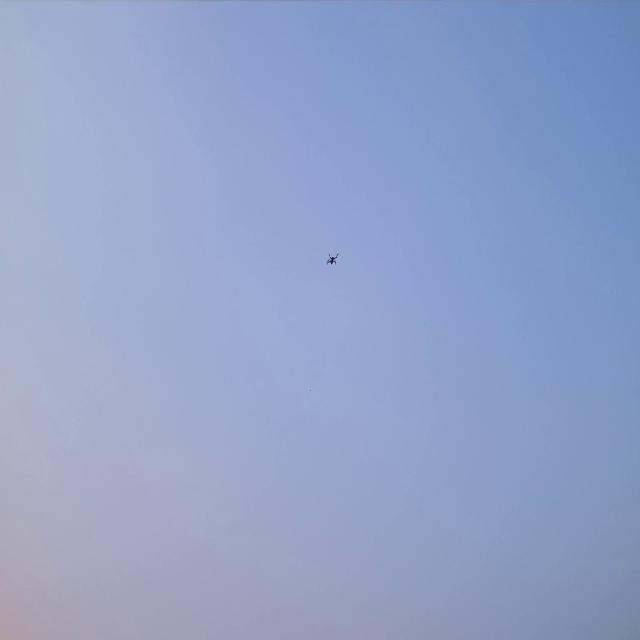UAV: (325, 251, 342, 268)
